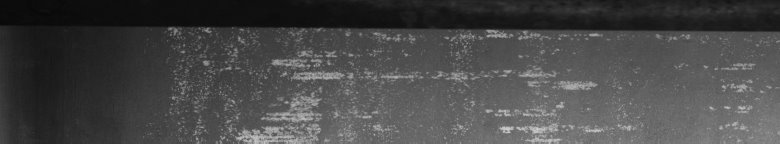kb: (112, 0, 776, 144)
